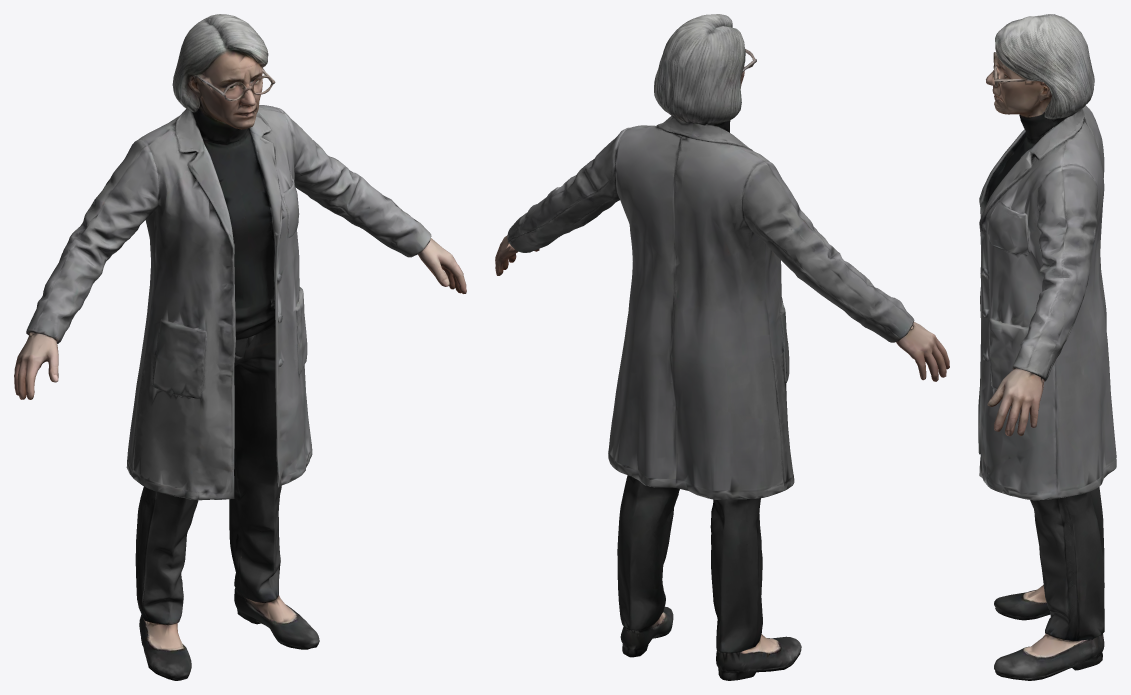
File: Ingrid_Solberg.glb
3 renders of one model, left to right at view 1: azimuth 30°, elevation 25°; view 2: azimuth 150°, elevation 25°; view 3: azimuth 270°, elevation 25°, orthographic.
Visible parts, largest first — view 1: tripo_node_a037150d-5f12-43d3-8ef7-47720ae89546; view 2: tripo_node_a037150d-5f12-43d3-8ef7-47720ae89546; view 3: tripo_node_a037150d-5f12-43d3-8ef7-47720ae89546.
Boxes of the visible parts, x1,y1,x2,y2 form: tripo_node_a037150d-5f12-43d3-8ef7-47720ae89546: [14, 14, 466, 680]; tripo_node_a037150d-5f12-43d3-8ef7-47720ae89546: [495, 14, 949, 680]; tripo_node_a037150d-5f12-43d3-8ef7-47720ae89546: [978, 14, 1116, 680].
Bounding box in the file's own units: 0.7189 × 0.9798 × 0.1959.
1 material, 1 textured.
